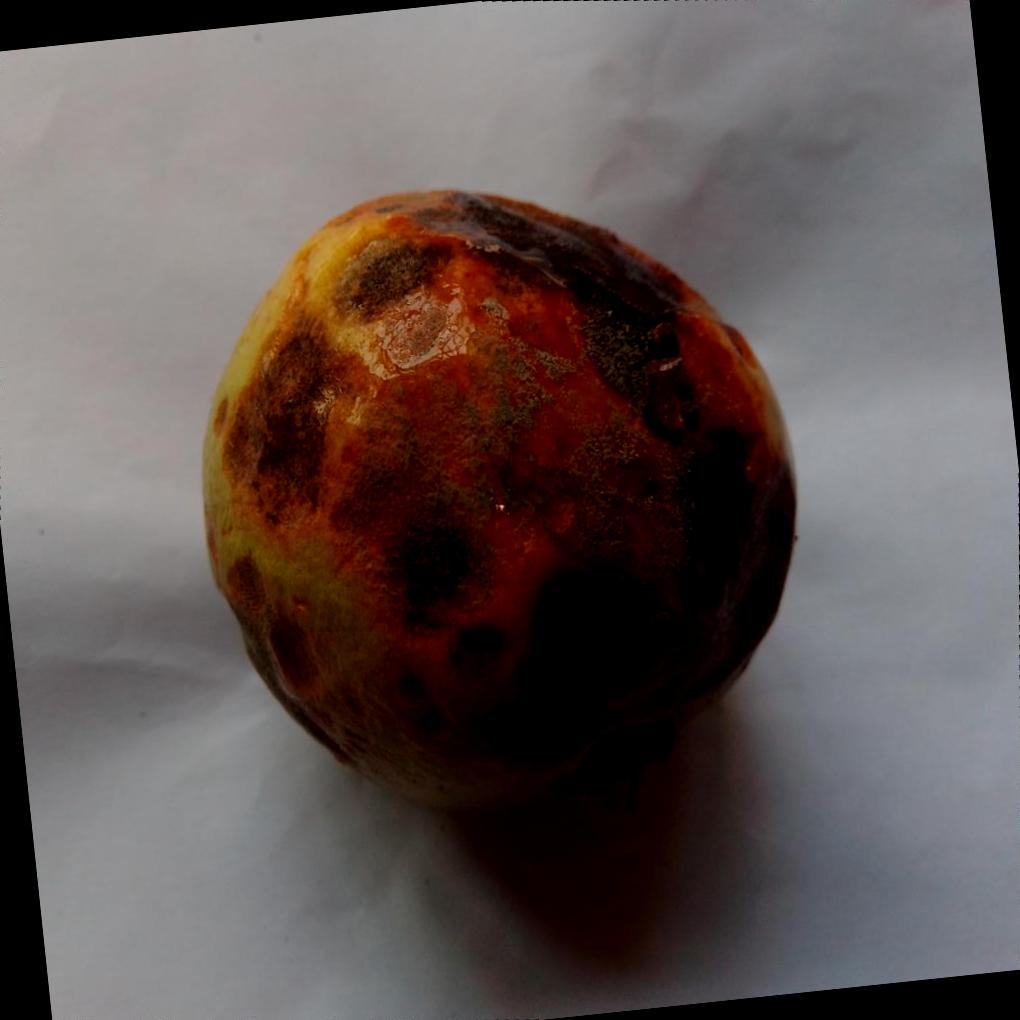FreshOrange: (196, 186, 796, 814)
